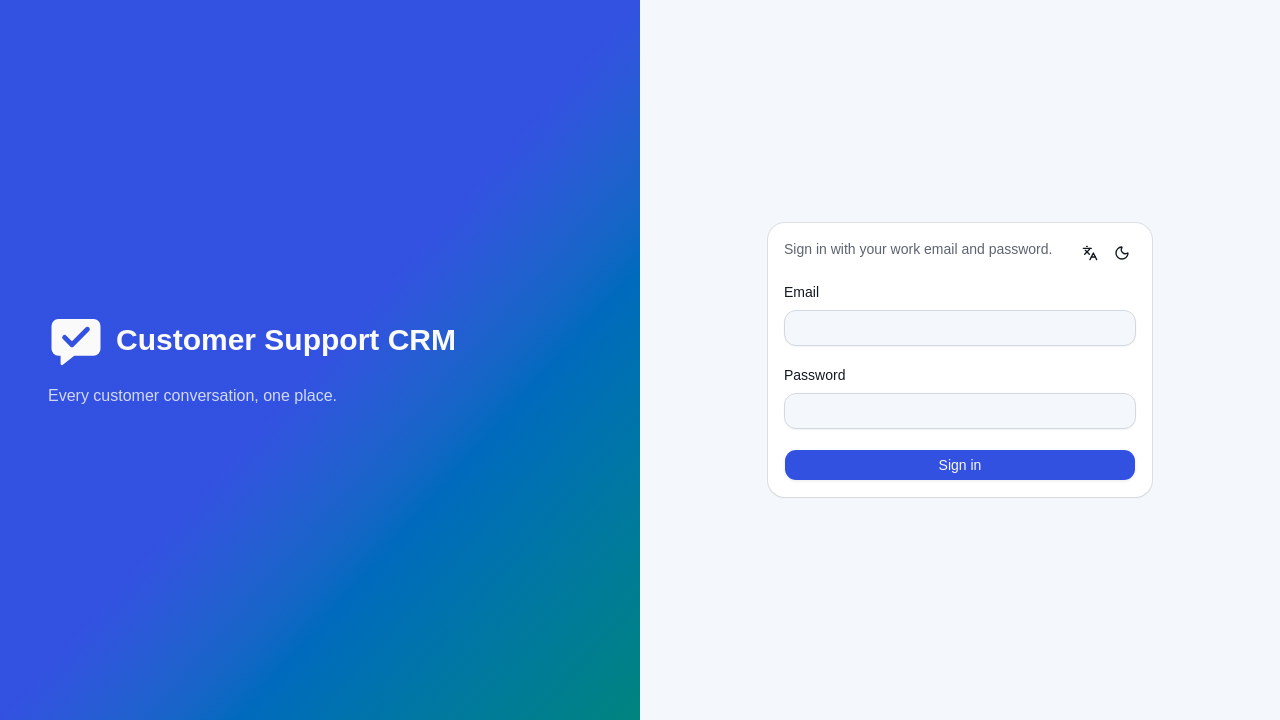
it: Demo accounts on the sign-in pages › shows the Arabic role labels in Arabic
The width and height of the screenshot is (1280, 720).
Click the button named "العربية". click: (1090, 253)
box: [1076,239,1104,267]
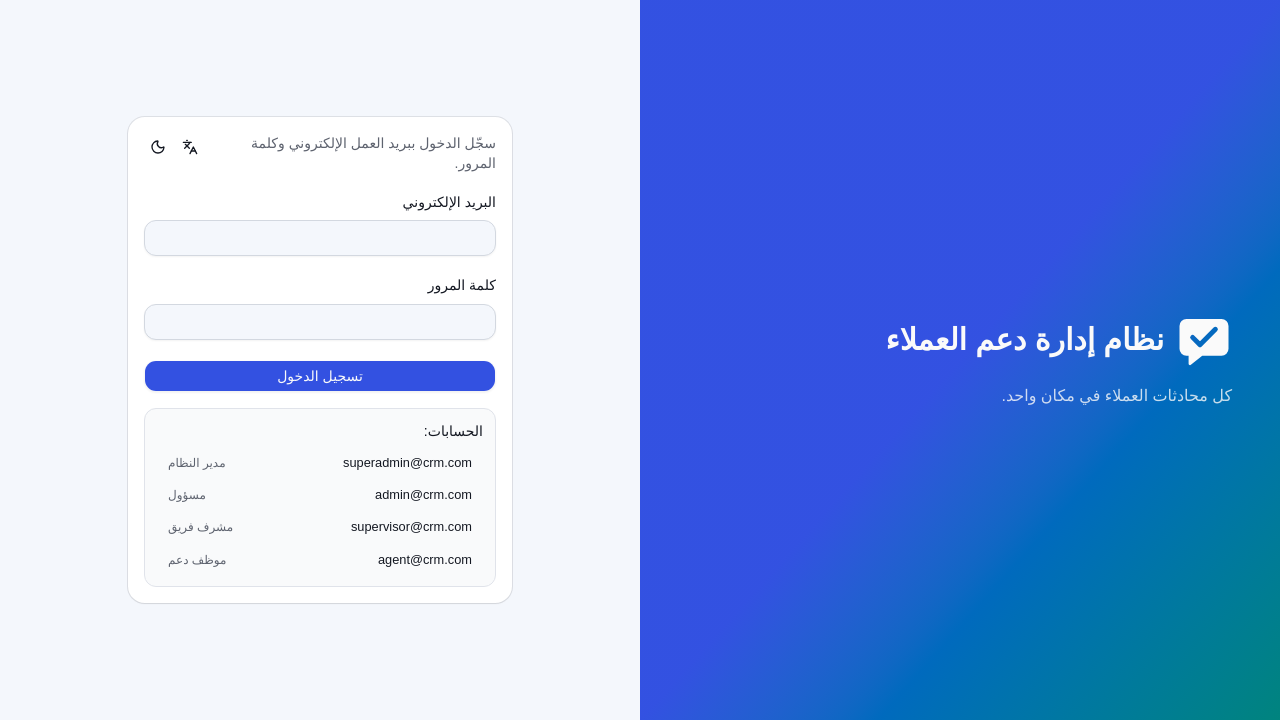
Expected: the element "الحسابات" shows "مدير النظام", [157,449,483,477]
Expected: the element "الحسابات" shows "مسؤول", [157,481,483,509]
Expected: the element "الحسابات" shows "مشرف فريق", [157,513,483,542]
